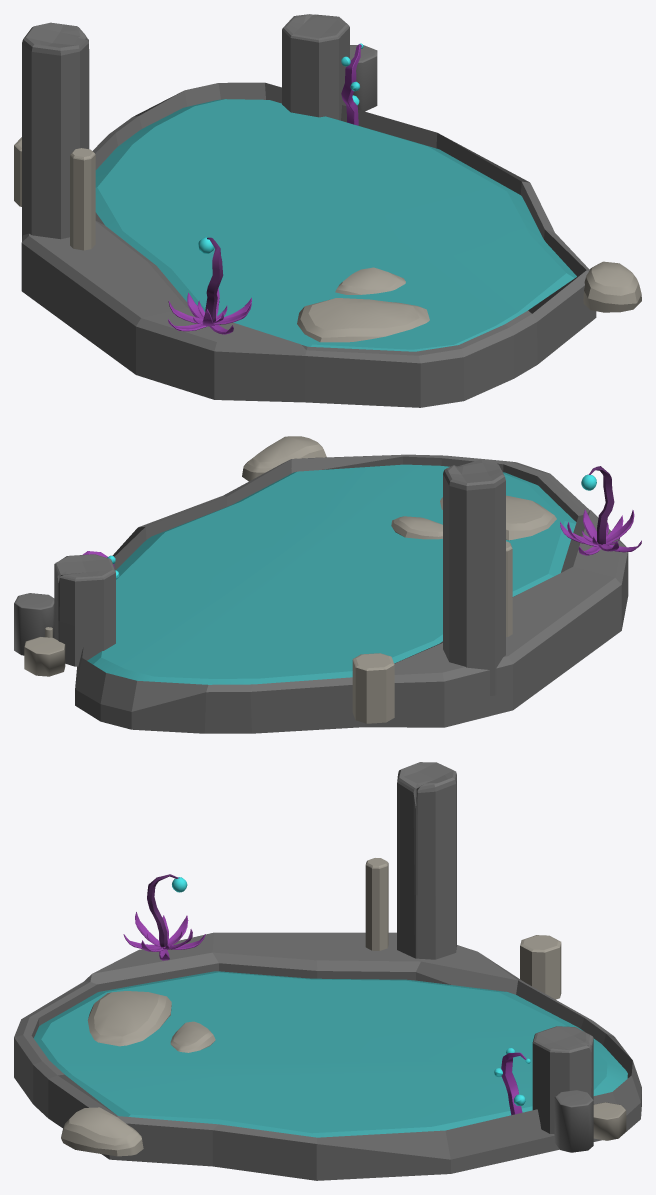
Rendered from lake_01.fbx.
The picture shows the model from 3 angles, top to bottom: view 1: azimuth 30°, elevation 25°; view 2: azimuth 150°, elevation 25°; view 3: azimuth 270°, elevation 25°; orthographic projection. The views are drawn at different scales.
Visible parts, largest first — view 1: polySurface2, polySurface1, Rocher_20, Rocher_01, pCube16, Rocher_21, pCube18, Plante_Sphere_02, pCube17, Rocher_03, herbe_11; view 2: polySurface2, polySurface1, Rocher_20, Rocher_01, Rocher_02, Plante_Sphere_02, Rocher_03, pCube18, pCube16, Rocher_05, pCube17, Rocher_21; view 3: polySurface2, polySurface1, Rocher_20, Rocher_01, pCube16, pCube18, Rocher_03, Rocher_02, Rocher_21, Plante_Sphere_02, Rocher_05, pCube17 (+1 smaller).
Part boxes in pixels (x1,y1,x2,y2): polySurface2: (95,99,576,351); polySurface1: (21,82,596,407); Rocher_20: (22,22,89,239); Rocher_01: (282,14,349,120); pCube16: (297,298,429,342); Rocher_21: (70,148,95,250); pCube18: (583,261,641,312); Plante_Sphere_02: (168,237,251,334); pCube17: (335,267,405,294); Rocher_03: (350,45,377,111); herbe_11: (341,43,363,125); polySurface2: (87,464,576,684); polySurface1: (75,454,628,733); Rocher_20: (443,459,505,695); Rocher_01: (54,554,115,666); Rocher_02: (352,653,394,723); Plante_Sphere_02: (560,466,641,555); Rocher_03: (14,593,54,655); pCube18: (242,436,326,481); pCube16: (440,495,556,540); Rocher_05: (24,637,65,676); pCube17: (391,516,442,539); Rocher_21: (506,541,512,636); polySurface2: (33,971,627,1137); polySurface1: (14,932,641,1180); Rocher_20: (397,762,456,959); Rocher_01: (532,1026,593,1134); pCube16: (87,991,171,1046); pCube18: (61,1107,143,1156); Rocher_03: (554,1090,593,1152); Rocher_02: (520,935,561,999); Rocher_21: (365,858,388,950); Plante_Sphere_02: (123,874,205,960); Rocher_05: (593,1102,626,1140); pCube17: (170,1021,215,1052).
Bounding box in the file's own units: 7.99 × 4.19 × 10.55.
